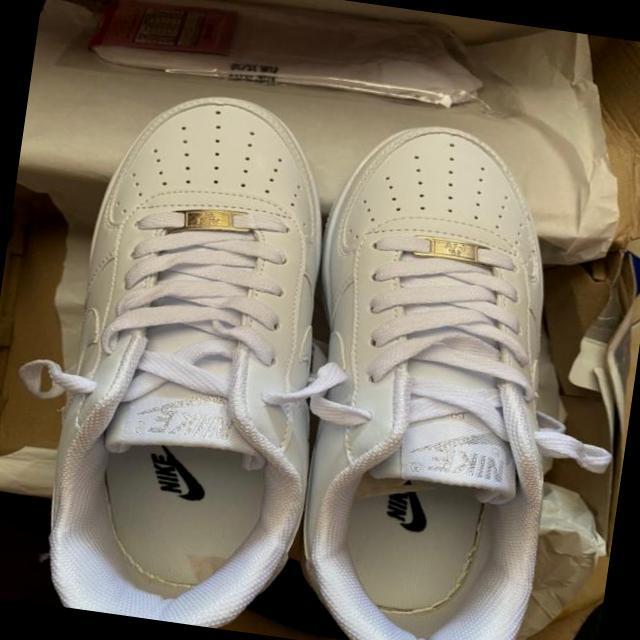nike_fake_airforce: (31, 76, 365, 639), (267, 109, 602, 640)
